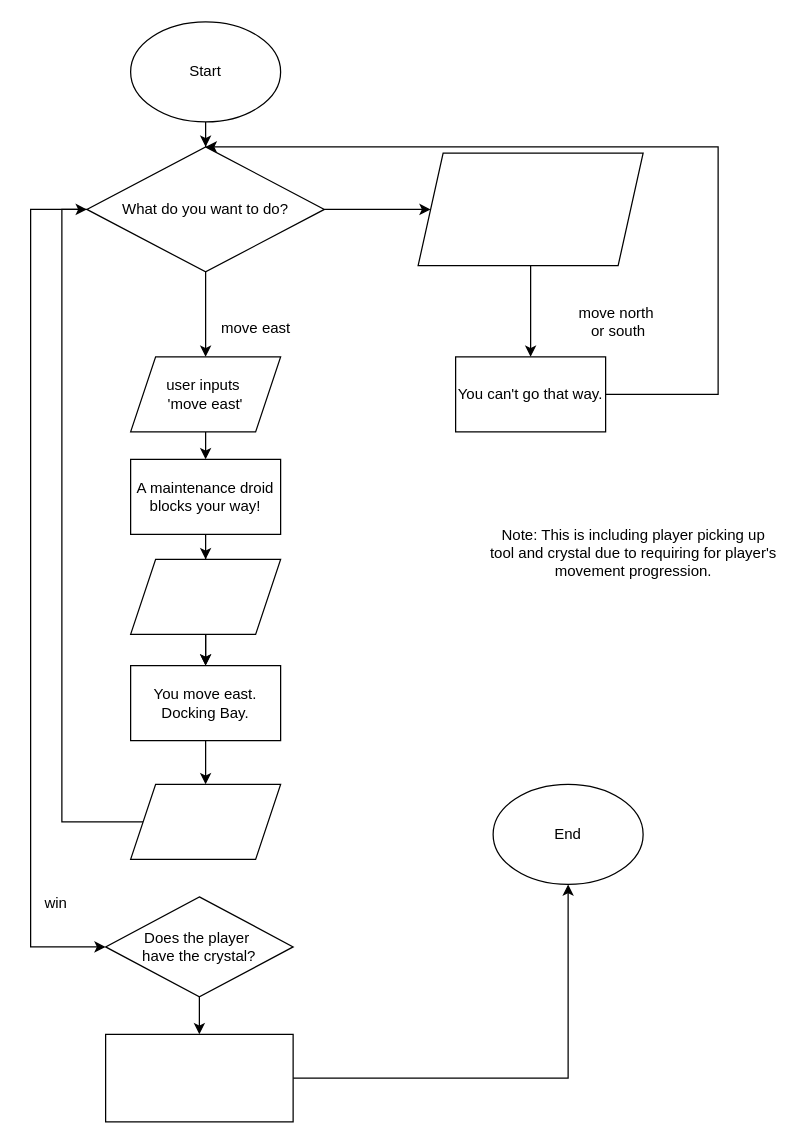
Image size: 803x1144. Some labels were removed from this diagram. Each missing label, with the centre of its shape:
"Mission complete! Final Score {final_score} Total Hazards: {hazard_count}" goes at point (198, 1077).
"Player picks up the crystal" goes at point (205, 821).
"user inputs 'move north' or 'move south'" goes at point (530, 209).
"User picks ups the tool and uses it" goes at point (205, 596).
